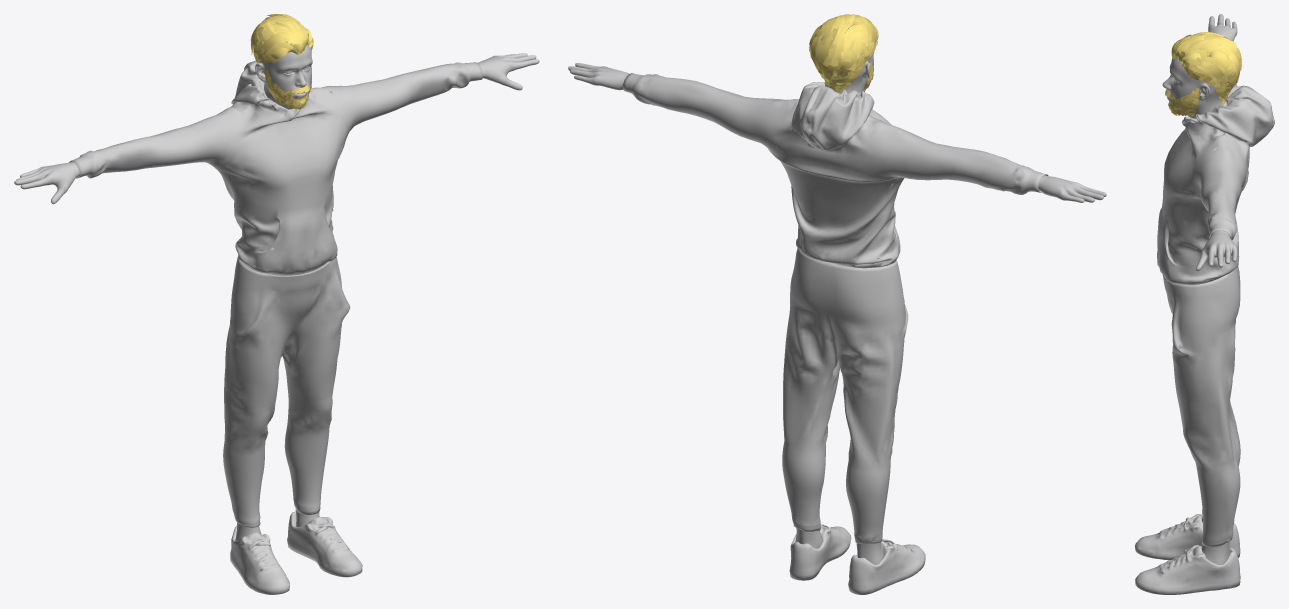
The model's file is coek.fbx.
The picture shows the model from 3 angles, left to right: view 1: azimuth 30°, elevation 25°; view 2: azimuth 150°, elevation 25°; view 3: azimuth 270°, elevation 25°; orthographic projection. The views are drawn at different scales.
Parts seen in each view (by area): view 1: Kosula, Pantoloni, Za rigovanje; view 2: Kosula, Pantoloni, Za rigovanje; view 3: Pantoloni, Kosula, Za rigovanje.
Part boxes in pixels (x1,y1,x2,y2): Kosula: (69,60,482,275); Pantoloni: (223,256,350,527); Za rigovanje: (14,14,539,594); Kosula: (623,73,1048,267); Pantoloni: (782,248,908,543); Za rigovanje: (568,14,1106,594); Pantoloni: (1162,266,1240,546); Kosula: (1157,37,1274,284); Za rigovanje: (1135,14,1243,594).
Bounding box in the file's own units: 179 × 178 × 42.23.
